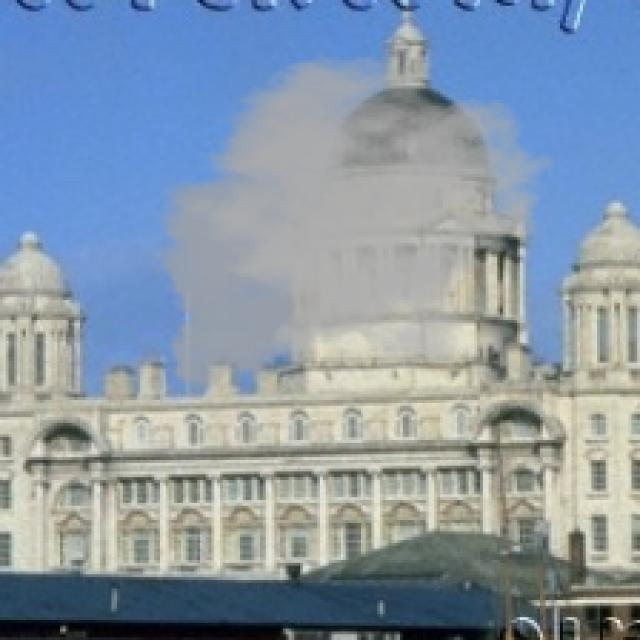smoke: (146, 54, 557, 406)
